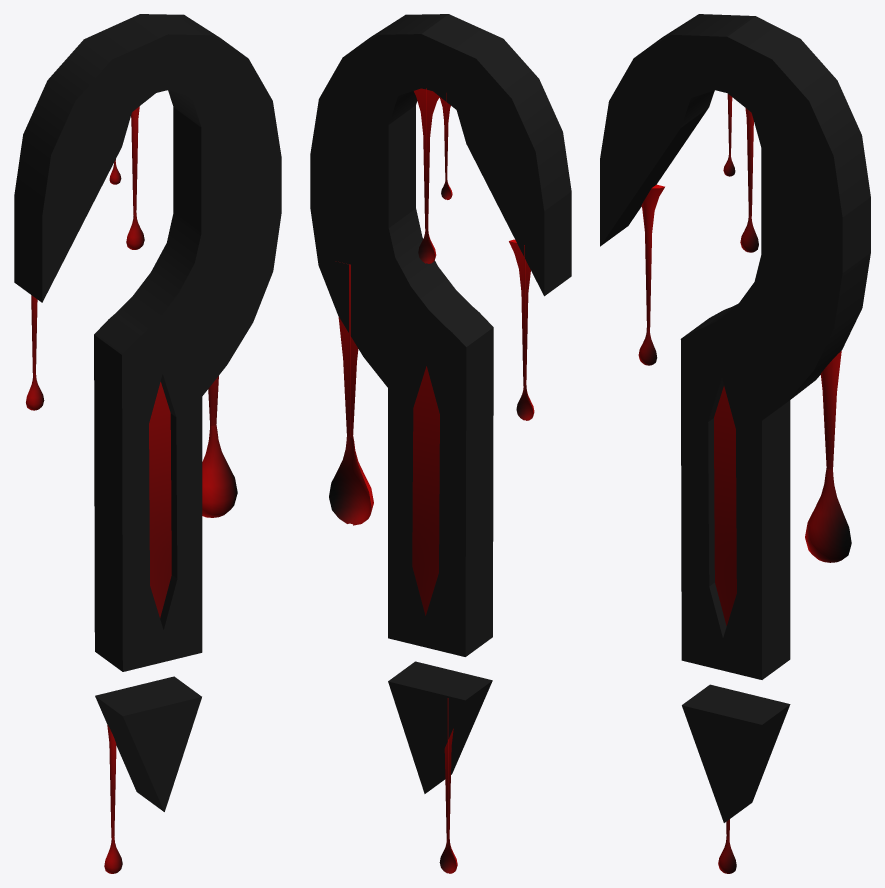
File: Question.FBX
3 views of the same model, side by side, from view 1: azimuth 30°, elevation 25°; view 2: azimuth 150°, elevation 25°; view 3: azimuth 330°, elevation 25° (orthographic). The views are drawn at different scales.
Parts seen in each view (by area): view 1: Question, Question_Element, Blood_437, Blood_440, Blood_401, Blood_397; view 2: Question, Question_Element, Blood_437, Blood_401, Blood_397, Blood_440, Blood_418; view 3: Question, Question_Element, Blood_437, Blood_397, Blood_401.
Part boxes in pixels (box(x1,y1,x2,y2)): Question: box(14, 14, 281, 811); Question_Element: box(149, 382, 171, 617); Blood_437: box(202, 376, 237, 517); Blood_440: box(104, 724, 122, 873); Blood_401: box(126, 106, 144, 249); Blood_397: box(26, 295, 44, 410); Question: box(310, 14, 571, 793); Question_Element: box(412, 366, 439, 615); Blood_437: box(329, 264, 373, 525); Blood_401: box(414, 88, 439, 263); Blood_397: box(509, 239, 534, 420); Blood_440: box(439, 698, 457, 873); Blood_418: box(439, 93, 452, 199); Question: box(600, 14, 870, 822); Question_Element: box(714, 386, 736, 625); Blood_437: box(805, 351, 851, 562); Blood_397: box(638, 184, 664, 365); Blood_401: box(740, 108, 758, 252).
Size of the model in its own units: 24.7 by 84.06 by 5.04.
2 materials, 1 textured.
